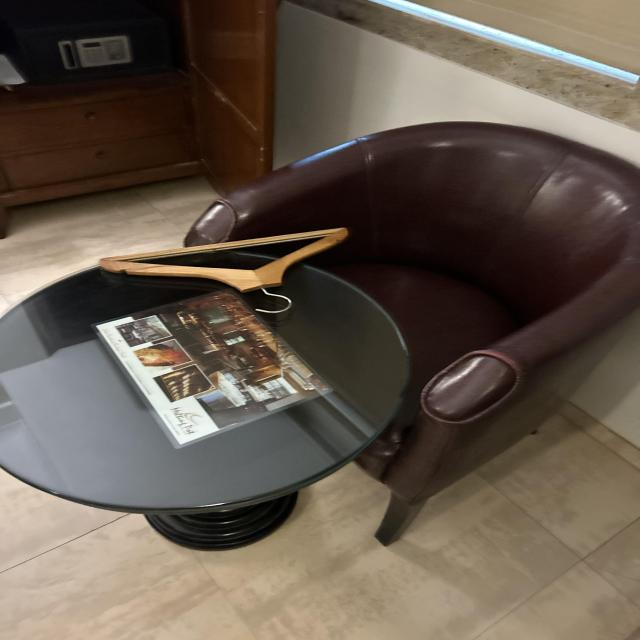mess: (0, 220, 386, 537)
